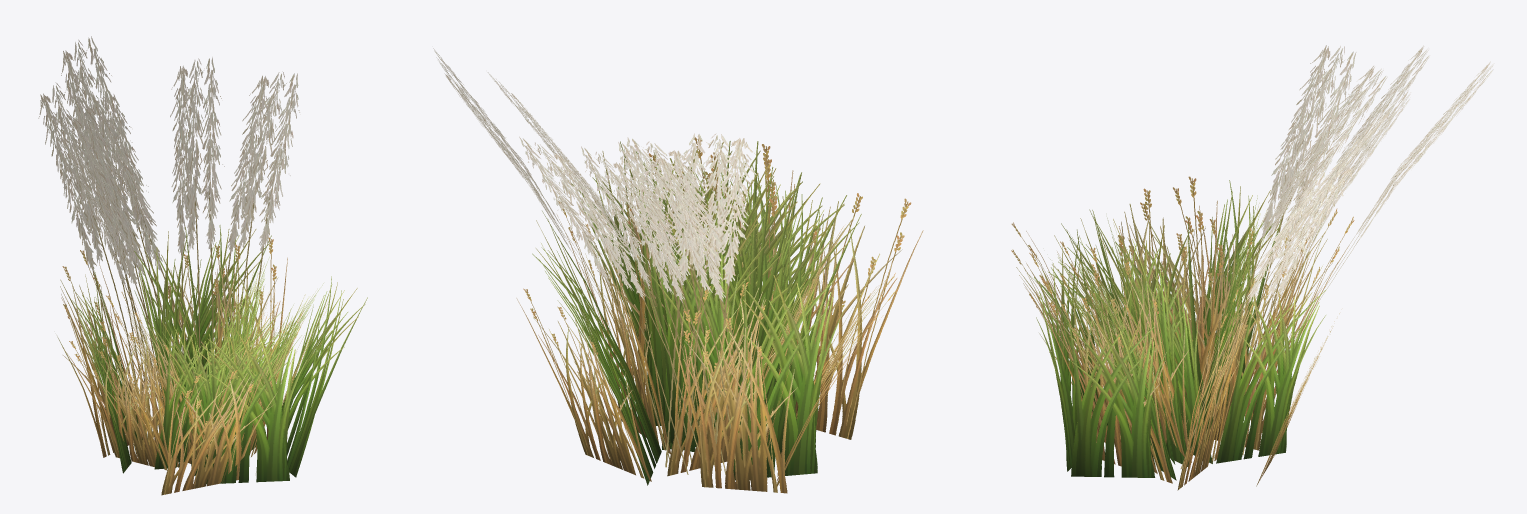
File: Grass_KaansPlume_A.fbx
3 views of the same model, side by side, from view 1: azimuth 30°, elevation 25°; view 2: azimuth 150°, elevation 25°; view 3: azimuth 270°, elevation 25° (orthographic). The views are drawn at different scales.
Visible parts, largest first — view 1: Grass_KaansPlume_A_LOD0; view 2: Grass_KaansPlume_A_LOD0; view 3: Grass_KaansPlume_A_LOD0.
Boxes of the visible parts, x1,y1,x2,y2 form: Grass_KaansPlume_A_LOD0: (38, 36, 367, 495); Grass_KaansPlume_A_LOD0: (433, 48, 923, 493); Grass_KaansPlume_A_LOD0: (1011, 45, 1494, 490).
Size of what is drawn, in the model's own units: 1.9 by 1.82 by 2.16.
